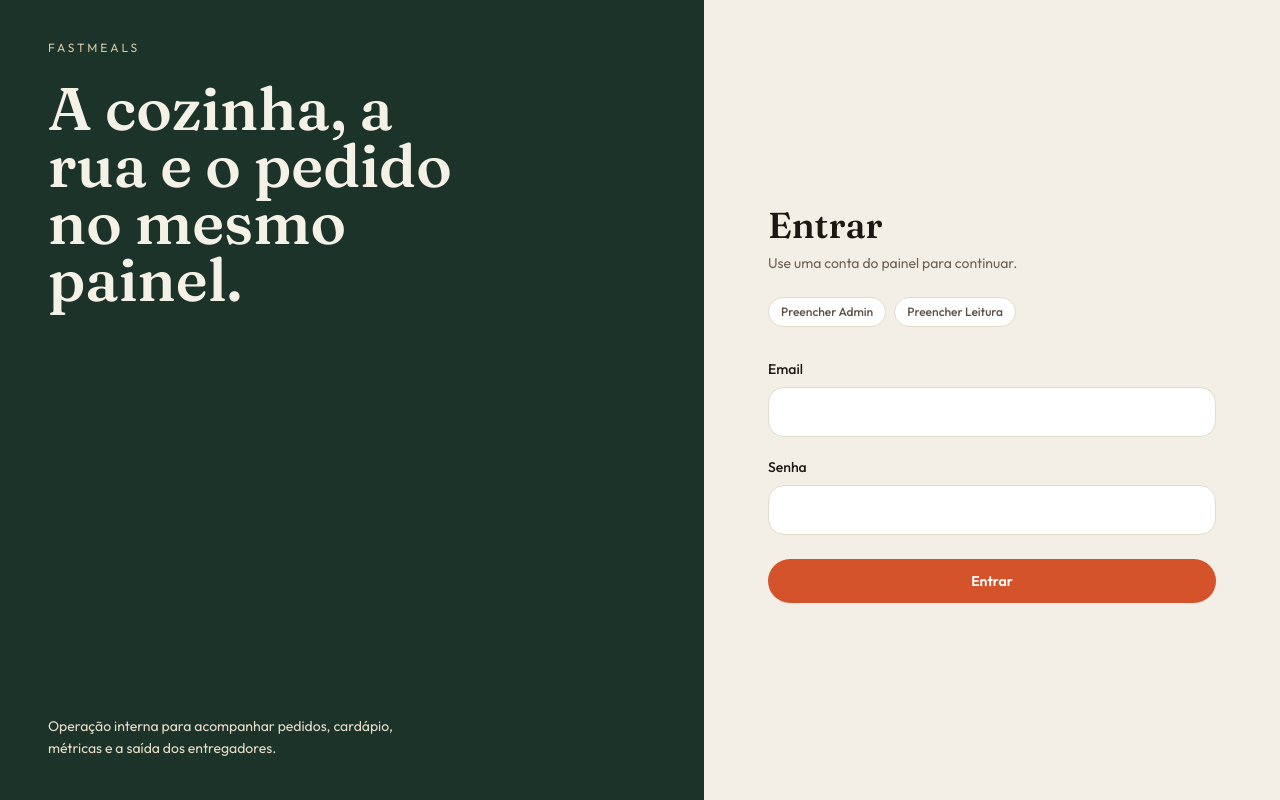
Scenario: login › mostra o erro quando a credencial e recusada
expect the heading "Entrar" is shown: met, box 768,203 -> 883,247
Step 1. Click the button "Preencher Admin" → (827, 312), box 768,297 -> 886,327
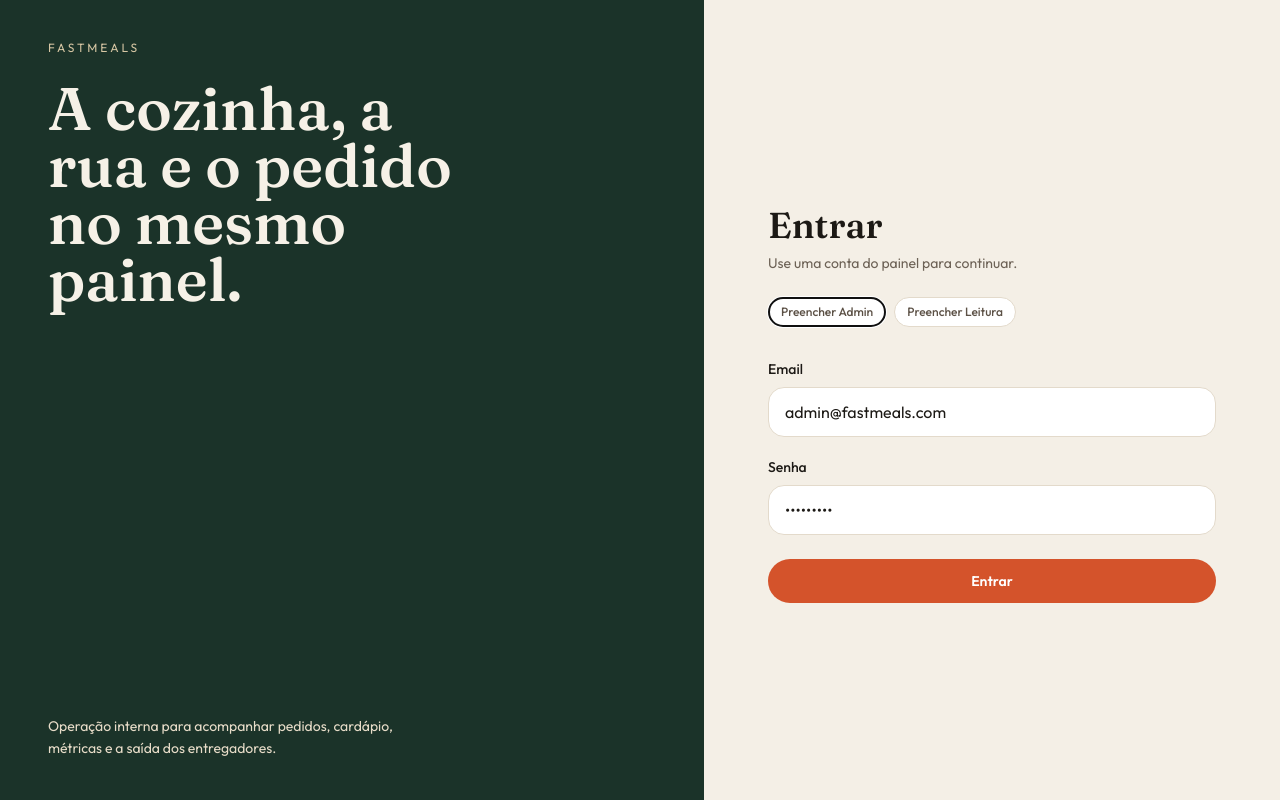
Step 2. Type "senha-errada" into the password field labelled "Senha" → (992, 510), box 768,485 -> 1216,535
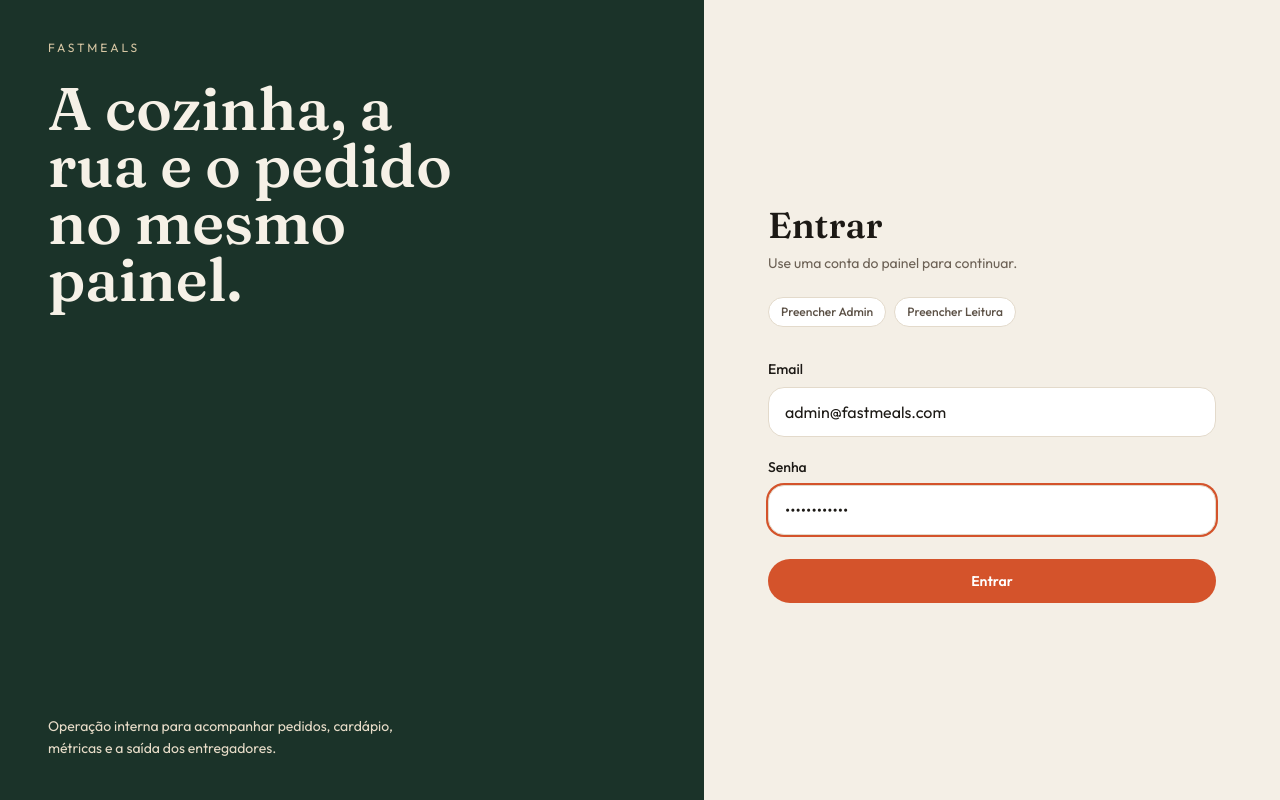
Step 3. Click the button "Entrar" → (992, 581), box 768,559 -> 1216,603
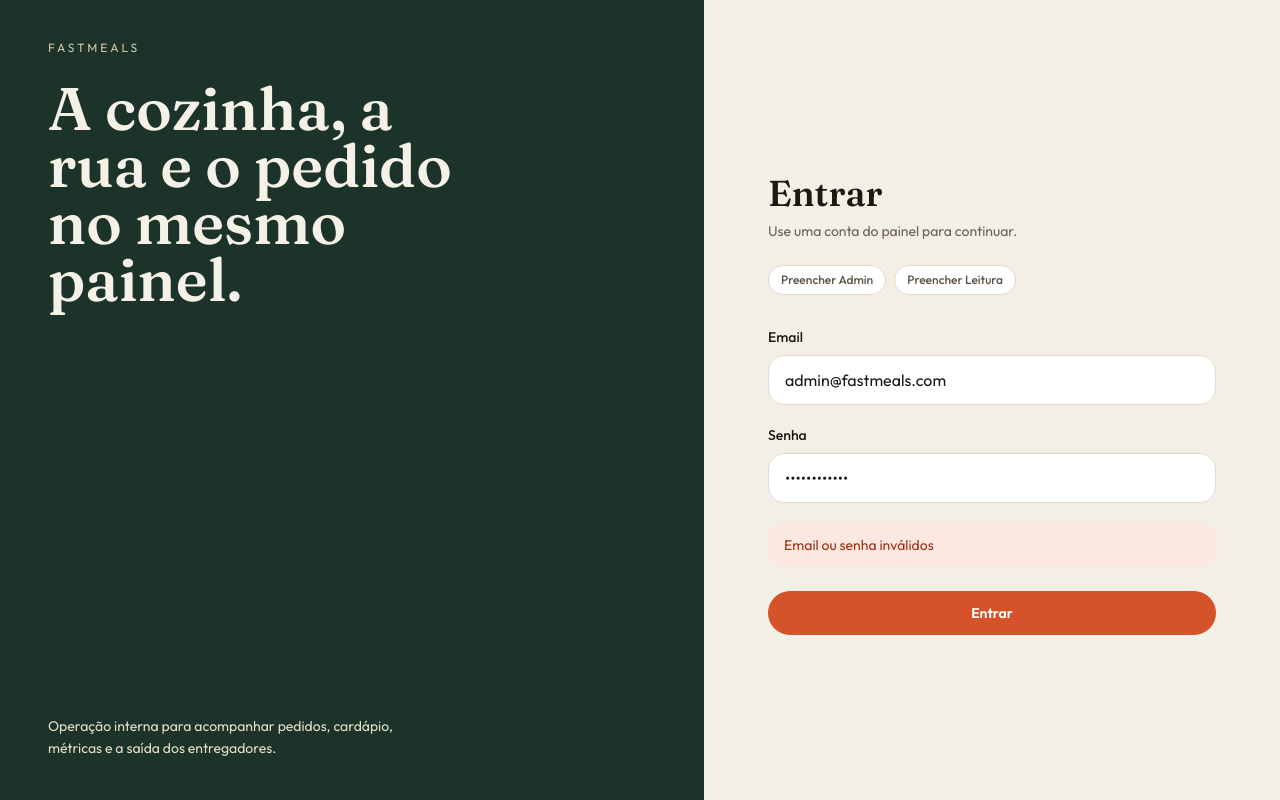
expect the heading "Entrar" is shown: met, box 768,171 -> 883,215
expect the message reads "Email ou senha inválidos": met, box 784,536 -> 934,554
